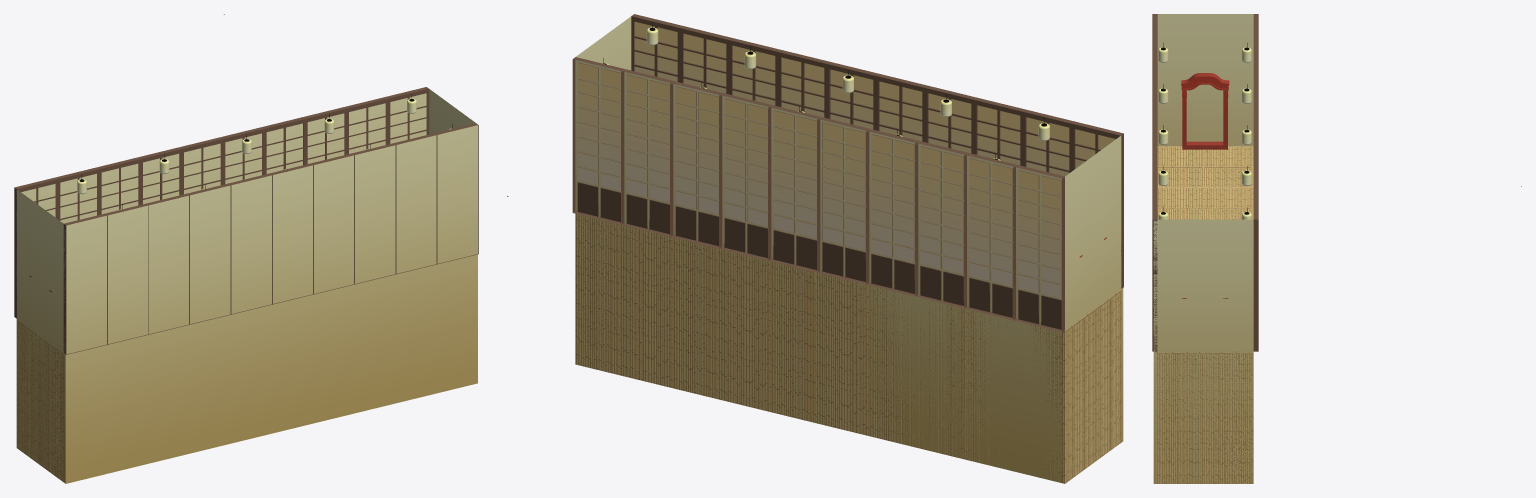
Rendered from Tutorial_01.fbx.
The picture shows the model from 3 angles, left to right: view 1: azimuth 30°, elevation 25°; view 2: azimuth 150°, elevation 25°; view 3: azimuth 270°, elevation 25°; orthographic projection. The views are drawn at different scales.
Parts seen in each view (by area): view 1: Background_04, Base_01, screenWall_01, polySurface346, polySurface354, polySurface352, polySurface350, polySurface355, polySurface348, polySurface349, polySurface351, polySurface347 (+1 smaller); view 2: Base_01, Background_04, screenWall_01, polySurface350, polySurface353, polySurface351, polySurface355, polySurface346, polySurface352, polySurface354, polySurface348, polySurface349 (+1 smaller); view 3: Background_04, Base_01, screenWall_01, doorStart_01, polySurface355.
Boxes of the visible parts, <box> form: Background_04: <box>16,89,477,483</box>; Base_01: <box>16,319,64,482</box>; screenWall_01: <box>63,123,478,354</box>; polySurface346: <box>14,177,57,318</box>; polySurface354: <box>344,97,387,154</box>; polySurface352: <box>262,117,305,174</box>; polySurface350: <box>179,137,222,194</box>; polySurface355: <box>386,87,429,144</box>; polySurface348: <box>97,157,140,214</box>; polySurface349: <box>138,147,181,204</box>; polySurface351: <box>221,127,264,184</box>; polySurface347: <box>56,167,99,220</box>; Base_01: <box>575,214,1121,483</box>; Background_04: <box>575,16,1123,483</box>; screenWall_01: <box>631,14,1123,288</box>; polySurface350: <box>817,116,869,284</box>; polySurface353: <box>670,81,722,248</box>; polySurface351: <box>768,105,820,272</box>; polySurface355: <box>572,57,624,224</box>; polySurface346: <box>1013,164,1064,332</box>; polySurface352: <box>719,93,771,260</box>; polySurface354: <box>621,69,673,236</box>; polySurface348: <box>915,140,966,308</box>; polySurface349: <box>866,128,918,296</box>; Background_04: <box>1153,14,1253,483</box>; Base_01: <box>1156,146,1253,483</box>; screenWall_01: <box>1152,14,1157,351</box>; doorStart_01: <box>1181,73,1229,149</box>; polySurface355: <box>1253,199,1258,351</box>.
Size of the model in its own units: 20 by 12.1 by 15.17.
